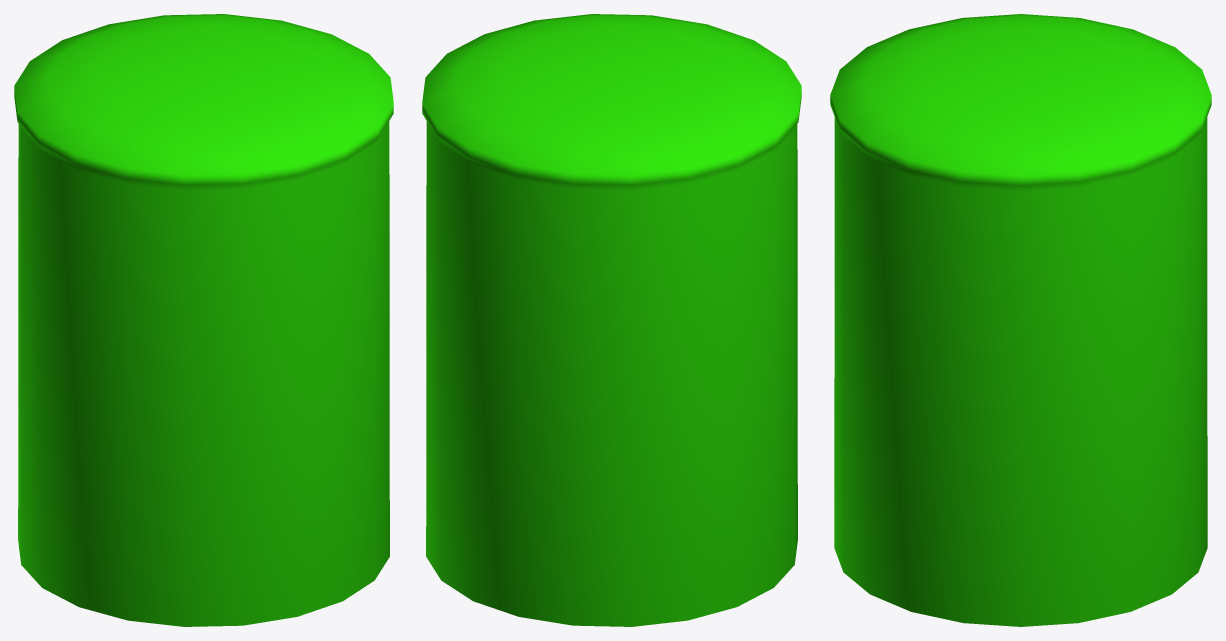
Rendered from Pot_03.fbx.
3 views of the same model, side by side, from view 1: azimuth 30°, elevation 25°; view 2: azimuth 150°, elevation 25°; view 3: azimuth 270°, elevation 25° (orthographic).
Visible parts, largest first — view 1: Pot_03; view 2: Pot_03; view 3: Pot_03.
Boxes of the visible parts, x1,y1,x2,y2 form: Pot_03: [14, 14, 393, 626]; Pot_03: [422, 14, 801, 626]; Pot_03: [830, 14, 1211, 626].
Size of the model in its own units: 12.96 by 18.01 by 12.96.
